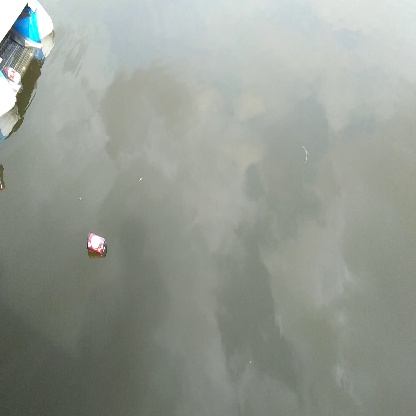bottle: (85, 230, 108, 260)
